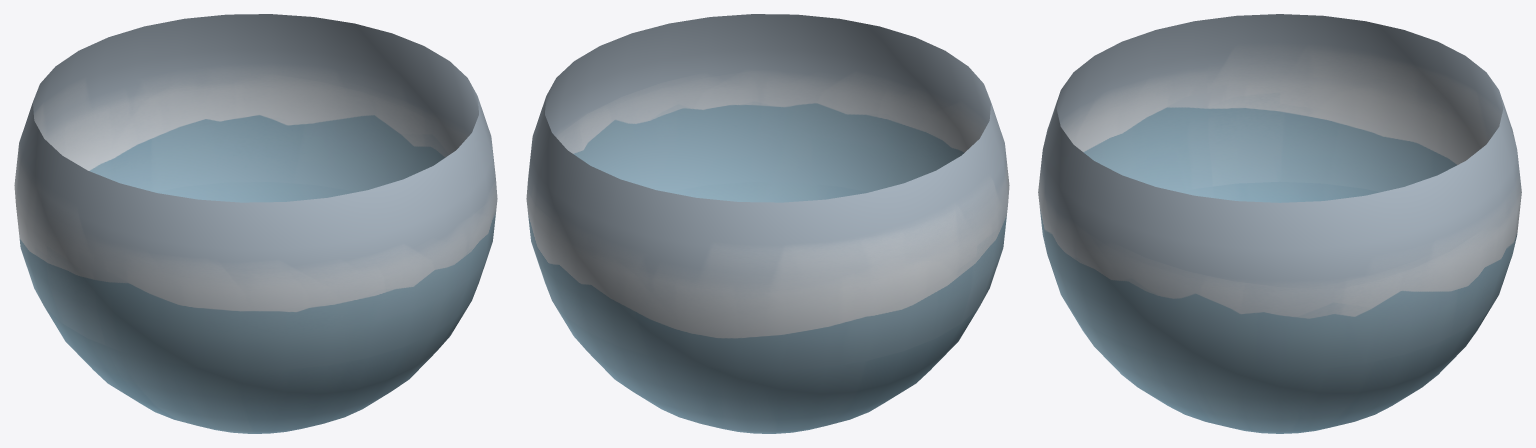
Rendered from Mountains.fbx.
3 renders of one model, left to right at view 1: azimuth 30°, elevation 25°; view 2: azimuth 150°, elevation 25°; view 3: azimuth 270°, elevation 25°, orthographic.
Parts seen in each view (by area): view 1: Sphere; view 2: Sphere; view 3: Sphere.
Part boxes in pixels (x1,y1,x2,y2): Sphere: [14, 14, 497, 433]; Sphere: [526, 14, 1009, 433]; Sphere: [1038, 14, 1521, 433].
Size of the model in its own units: 1334 by 922 by 1334.
